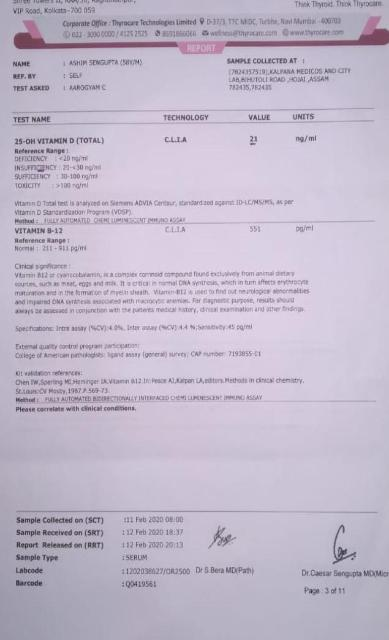Clinical_Conditions: (11, 259, 316, 316)
Name: (67, 59, 145, 67)
Ref_By: (68, 71, 89, 78)
Technology: (162, 133, 197, 148), (164, 226, 189, 237)
Test_Asked: (69, 81, 112, 95)
Test_Name: (11, 133, 121, 194), (13, 226, 97, 256)
Unit: (294, 130, 321, 151), (294, 224, 321, 237)
Value: (244, 130, 269, 152), (246, 224, 269, 236)
